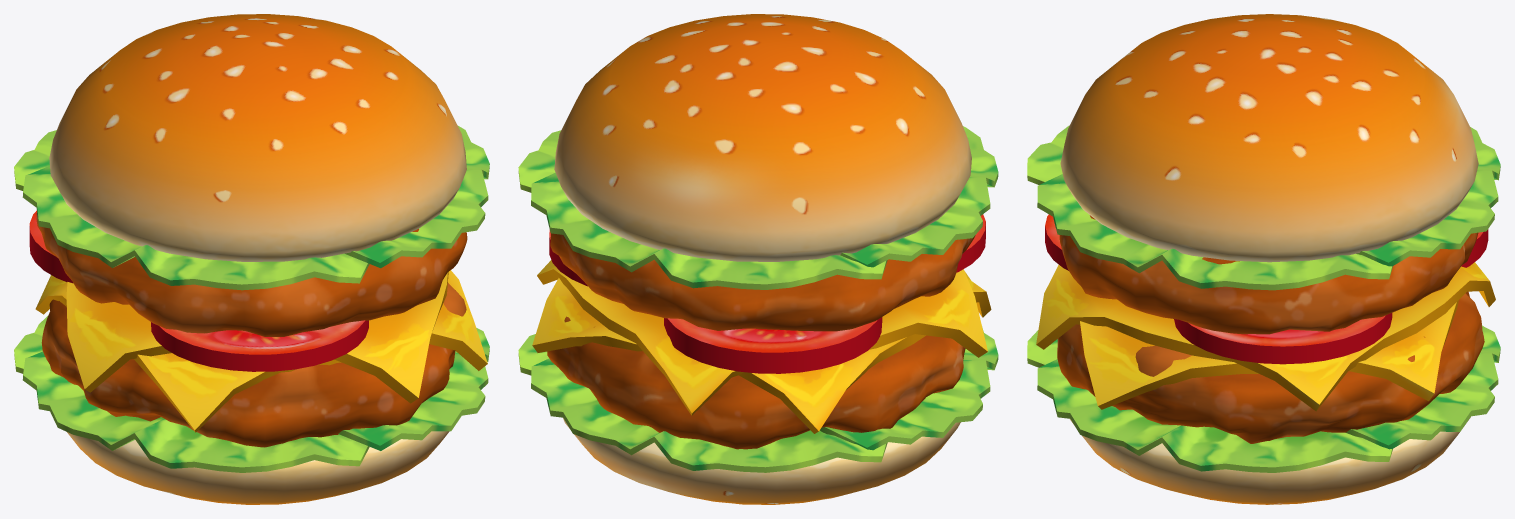
Rendered from 1_4_burger.fbx.
3 views of the same model, side by side, from view 1: azimuth 30°, elevation 25°; view 2: azimuth 150°, elevation 25°; view 3: azimuth 270°, elevation 25° (orthographic).
Parts seen in each view (by area): view 1: Cube.011; view 2: Cube.011; view 3: Cube.011.
Part boxes in pixels (<box>): Cube.011: <box>14,14,489,504</box>; Cube.011: <box>518,14,998,504</box>; Cube.011: <box>1027,14,1500,504</box>.
Bounding box in the file's own units: 2.79 × 2.58 × 2.76.
